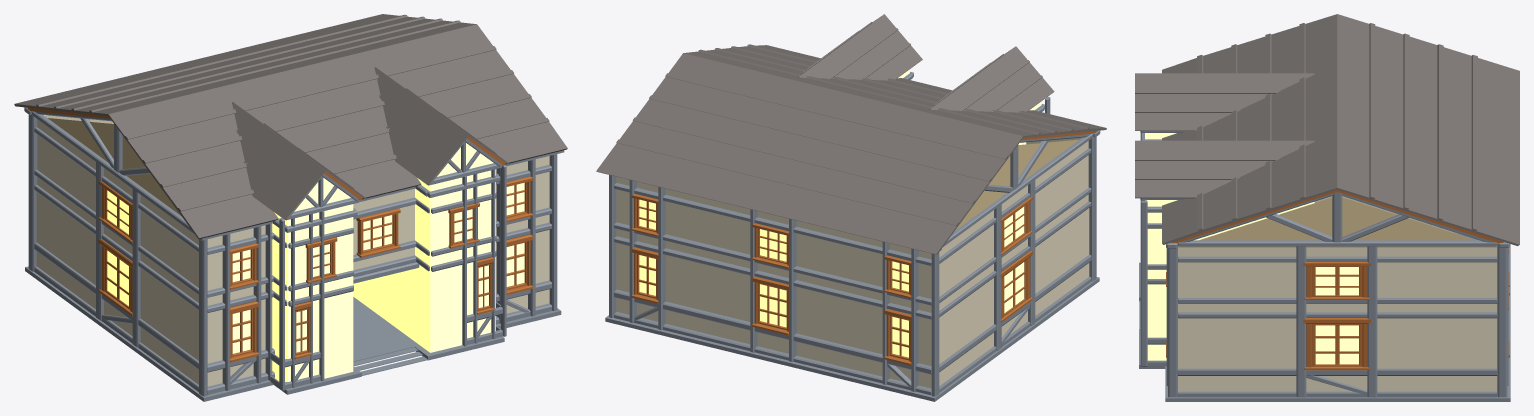
The model's file is cottage_walkin_b.glb.
3 views of the same model, side by side, from view 1: azimuth 30°, elevation 25°; view 2: azimuth 150°, elevation 25°; view 3: azimuth 270°, elevation 25° (orthographic). The views are drawn at different scales.
Parts seen in each view (by area): view 1: Roof_Cutaway, Walls_Static, Walls_Front; view 2: Roof_Cutaway, Walls_Static, Walls_Front; view 3: Roof_Cutaway, Walls_Static, Walls_Front.
Boxes of the visible parts, left/top/right/bottom form: Roof_Cutaway: left=14, top=14, right=567, bottom=313; Walls_Static: left=25, top=187, right=561, bottom=401; Walls_Front: left=199, top=228, right=557, bottom=396; Roof_Cutaway: left=596, top=14, right=1106, bottom=320; Walls_Static: left=605, top=208, right=1099, bottom=401; Walls_Front: left=1089, top=203, right=1096, bottom=281; Roof_Cutaway: left=1135, top=14, right=1519, bottom=318; Walls_Static: left=1139, top=196, right=1510, bottom=401; Walls_Front: left=1140, top=287, right=1178, bottom=397.
Bounding box in the file's own units: 15.21 × 8.87 × 14.23.
